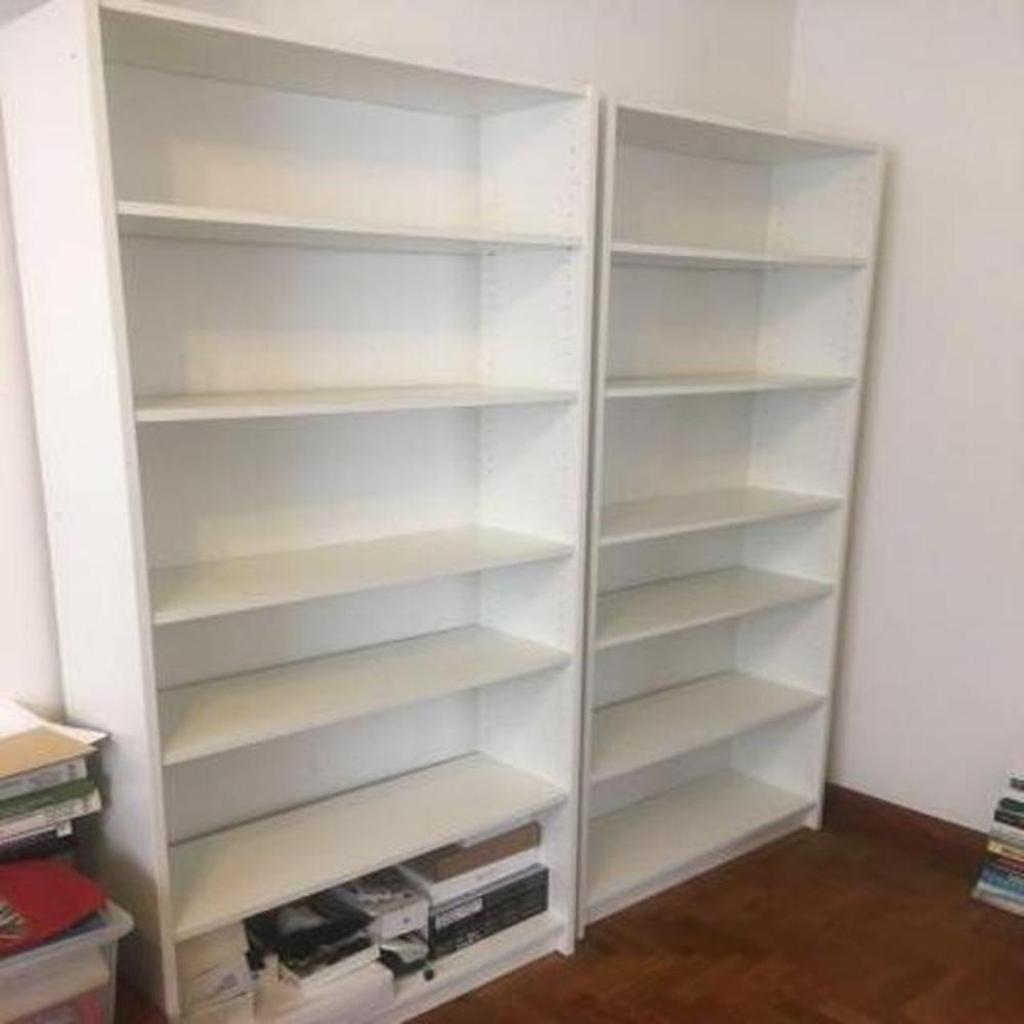lamp: (0, 1, 608, 1023), (479, 93, 892, 946)
